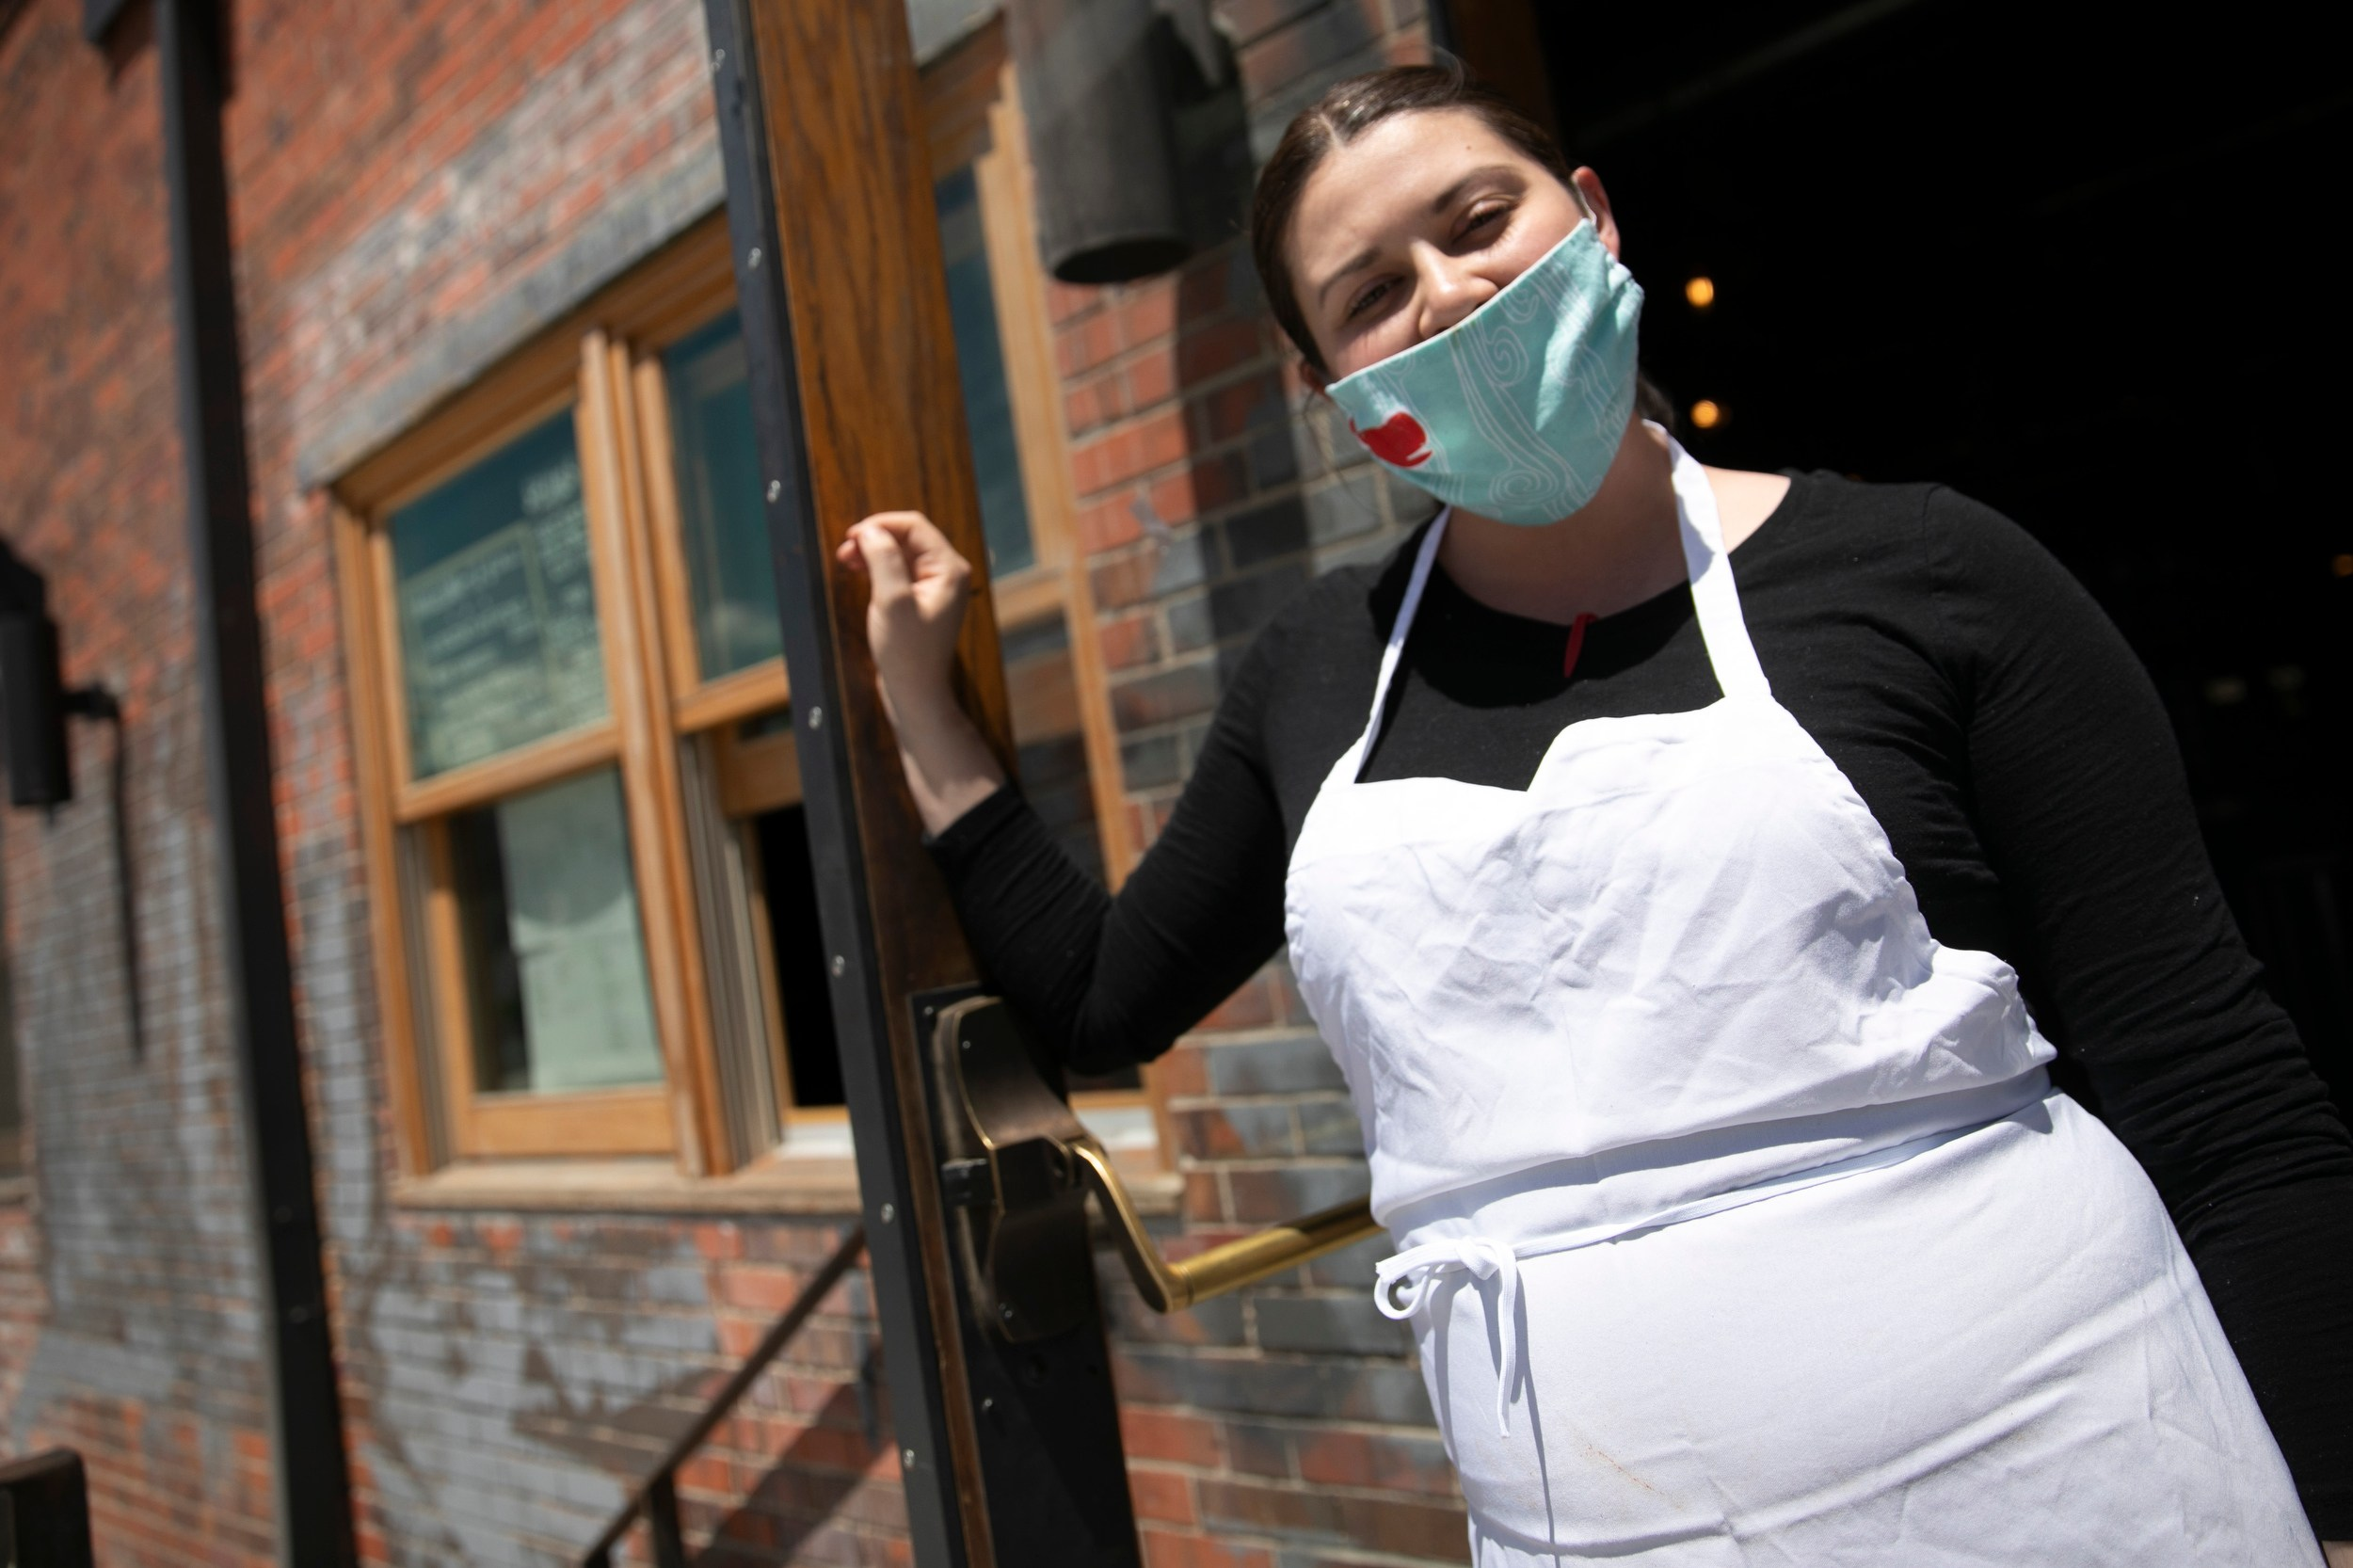with_mask: (1241, 113, 1670, 495)
